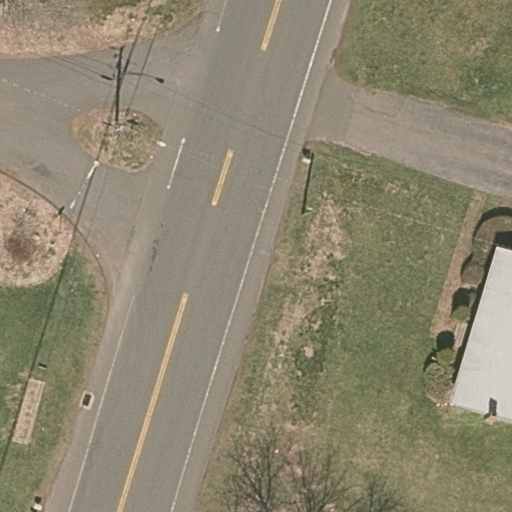DT: (65, 159, 101, 212)
